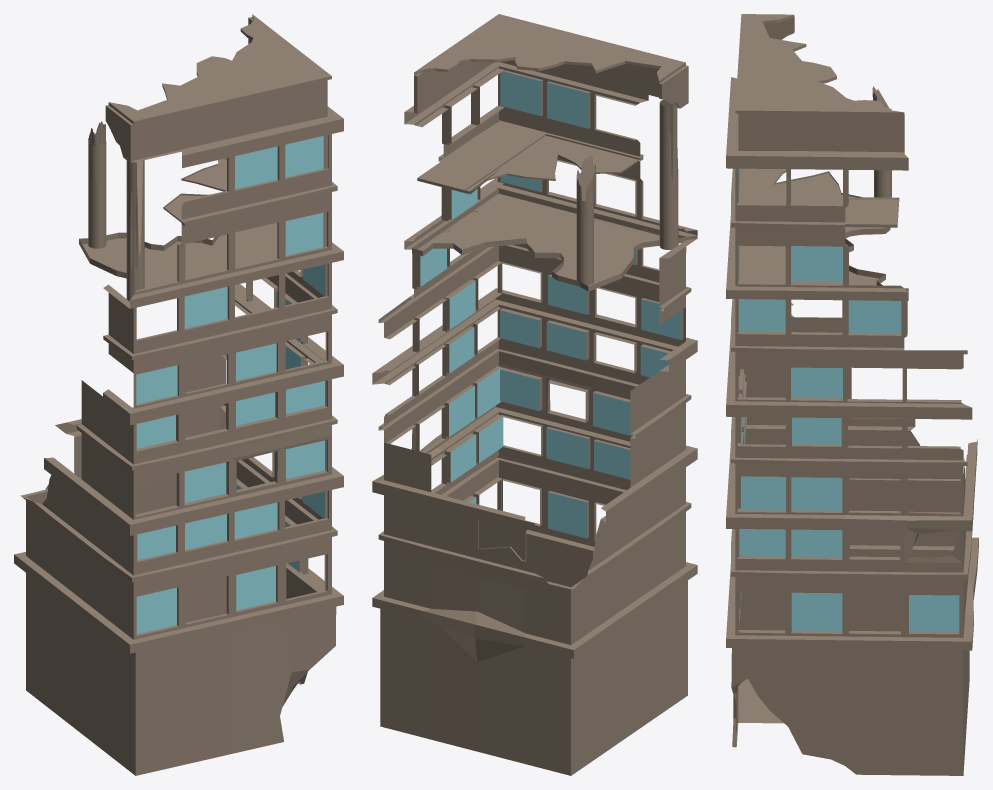
File: building1-2-broken.fbx
3 views of the same model, side by side, from view 1: azimuth 30°, elevation 25°; view 2: azimuth 150°, elevation 25°; view 3: azimuth 270°, elevation 25° (orthographic). The views are drawn at different scales.
Visible parts, largest first — view 1: Cube.002, Cube.003; view 2: Cube.002, Cube.003; view 3: Cube.002, Cube.003.
Boxes of the visible parts, x1,y1,x2,y2 form: Cube.002: (14,14,343,775); Cube.003: (136,136,326,634); Cube.002: (372,14,697,775); Cube.003: (420,71,681,538); Cube.002: (726,14,978,775); Cube.003: (737,168,959,631).
Size of the model in its own units: 212 by 611 by 212.
